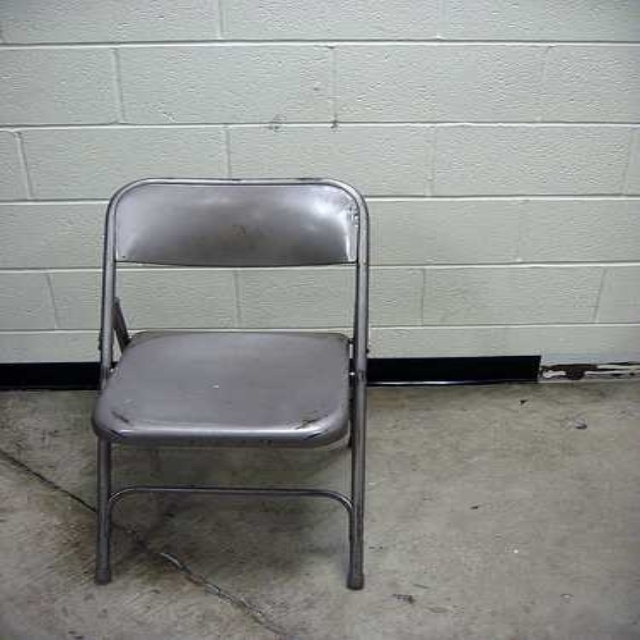obstacle: (94, 178, 367, 588)
